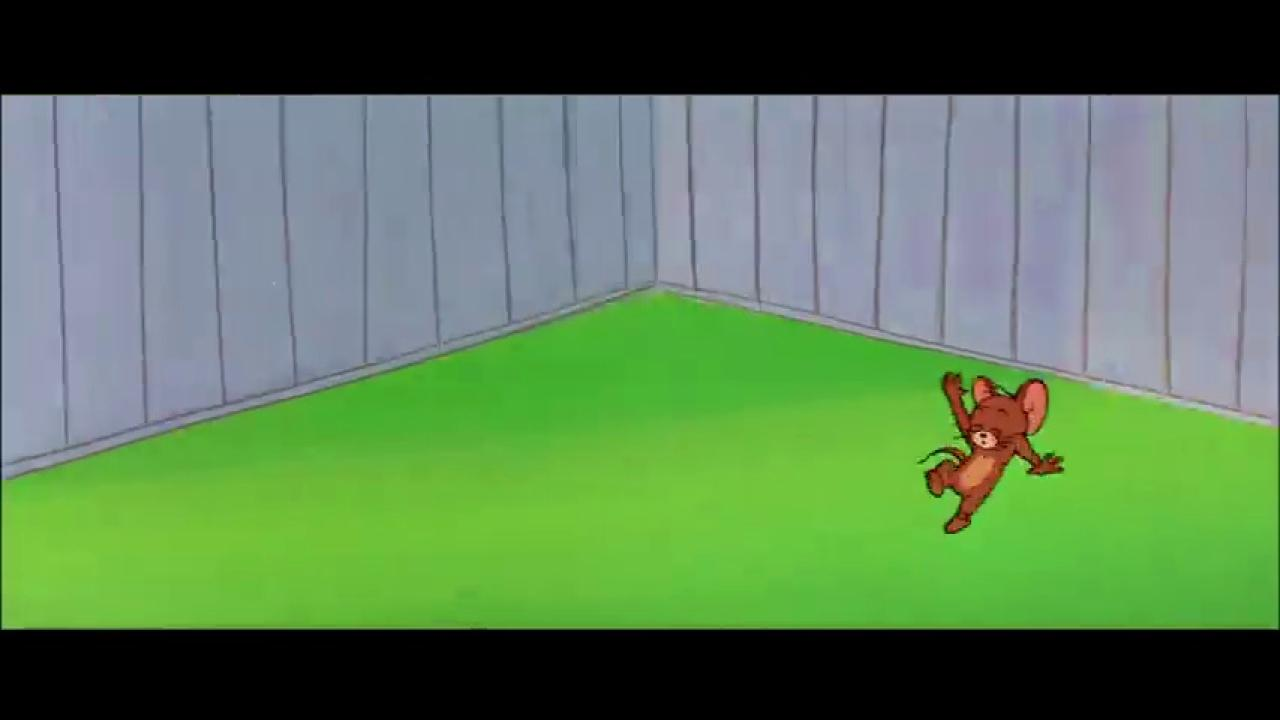Jerry: (913, 367, 1066, 536)
